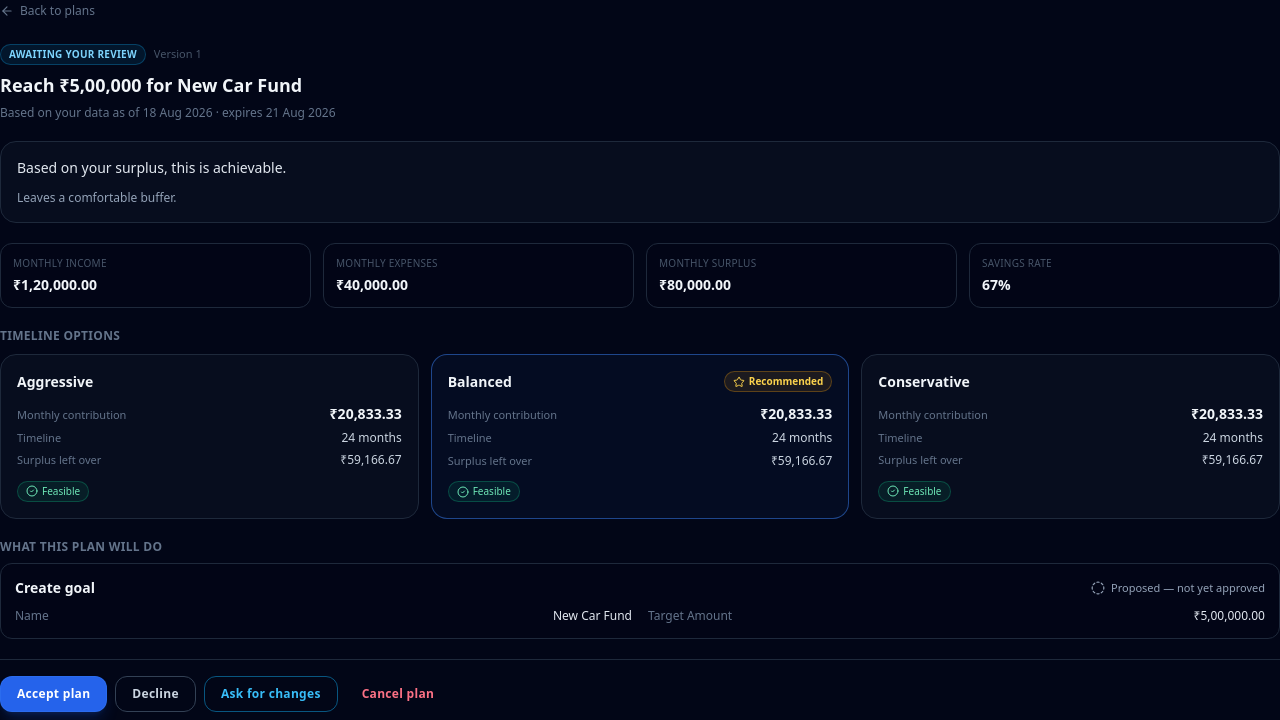
PlanDetailView — the suggestion/pending/confirmed/executed/failed distinction must be visible › shows Accept/Decline for a plan still awaiting review, and opens a preview before doing anything
Expected: the heading "Reach ₹5,00,000 for New Car Fund" is shown, [0,71,336,99]
Expected: the button "Decline" is shown, [115,676,196,712]
What coordinates should you click on to do the following:
click the button "Accept plan"
I would click on:
 (54, 694)
Its box is [0,676,107,712].
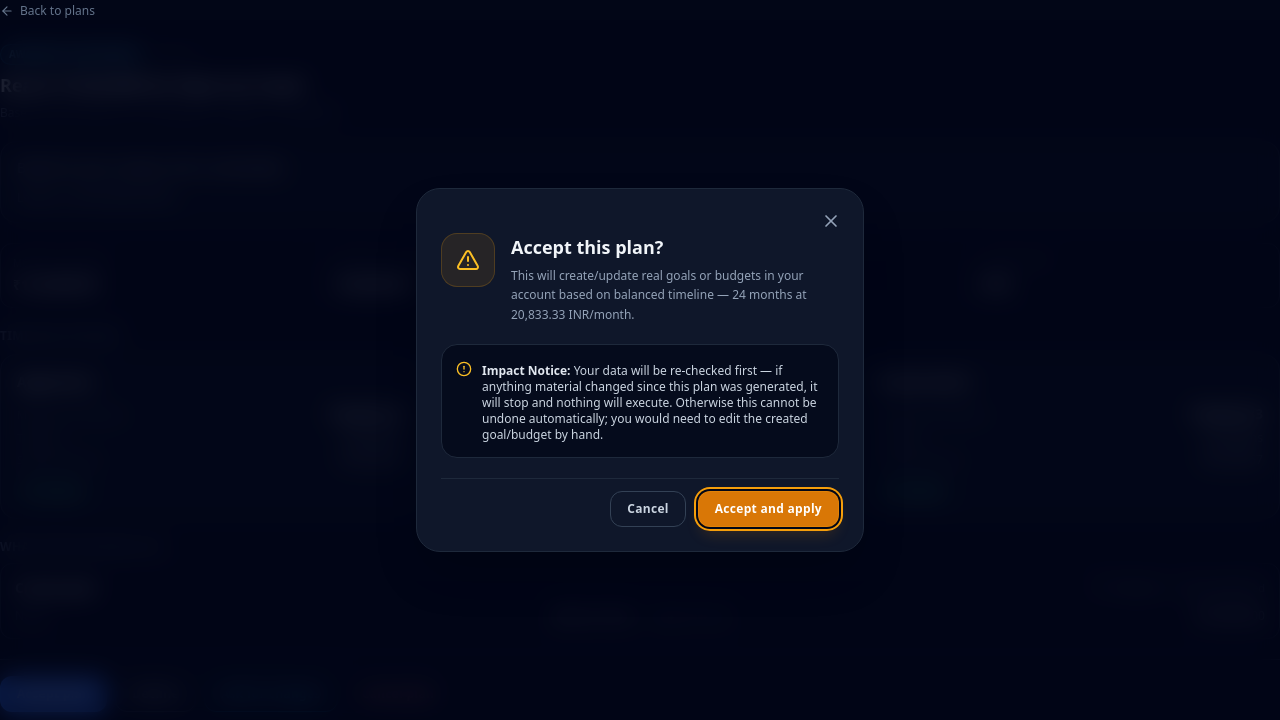
Expected: the heading "Accept this plan?" is shown, [511,235,663,259]
